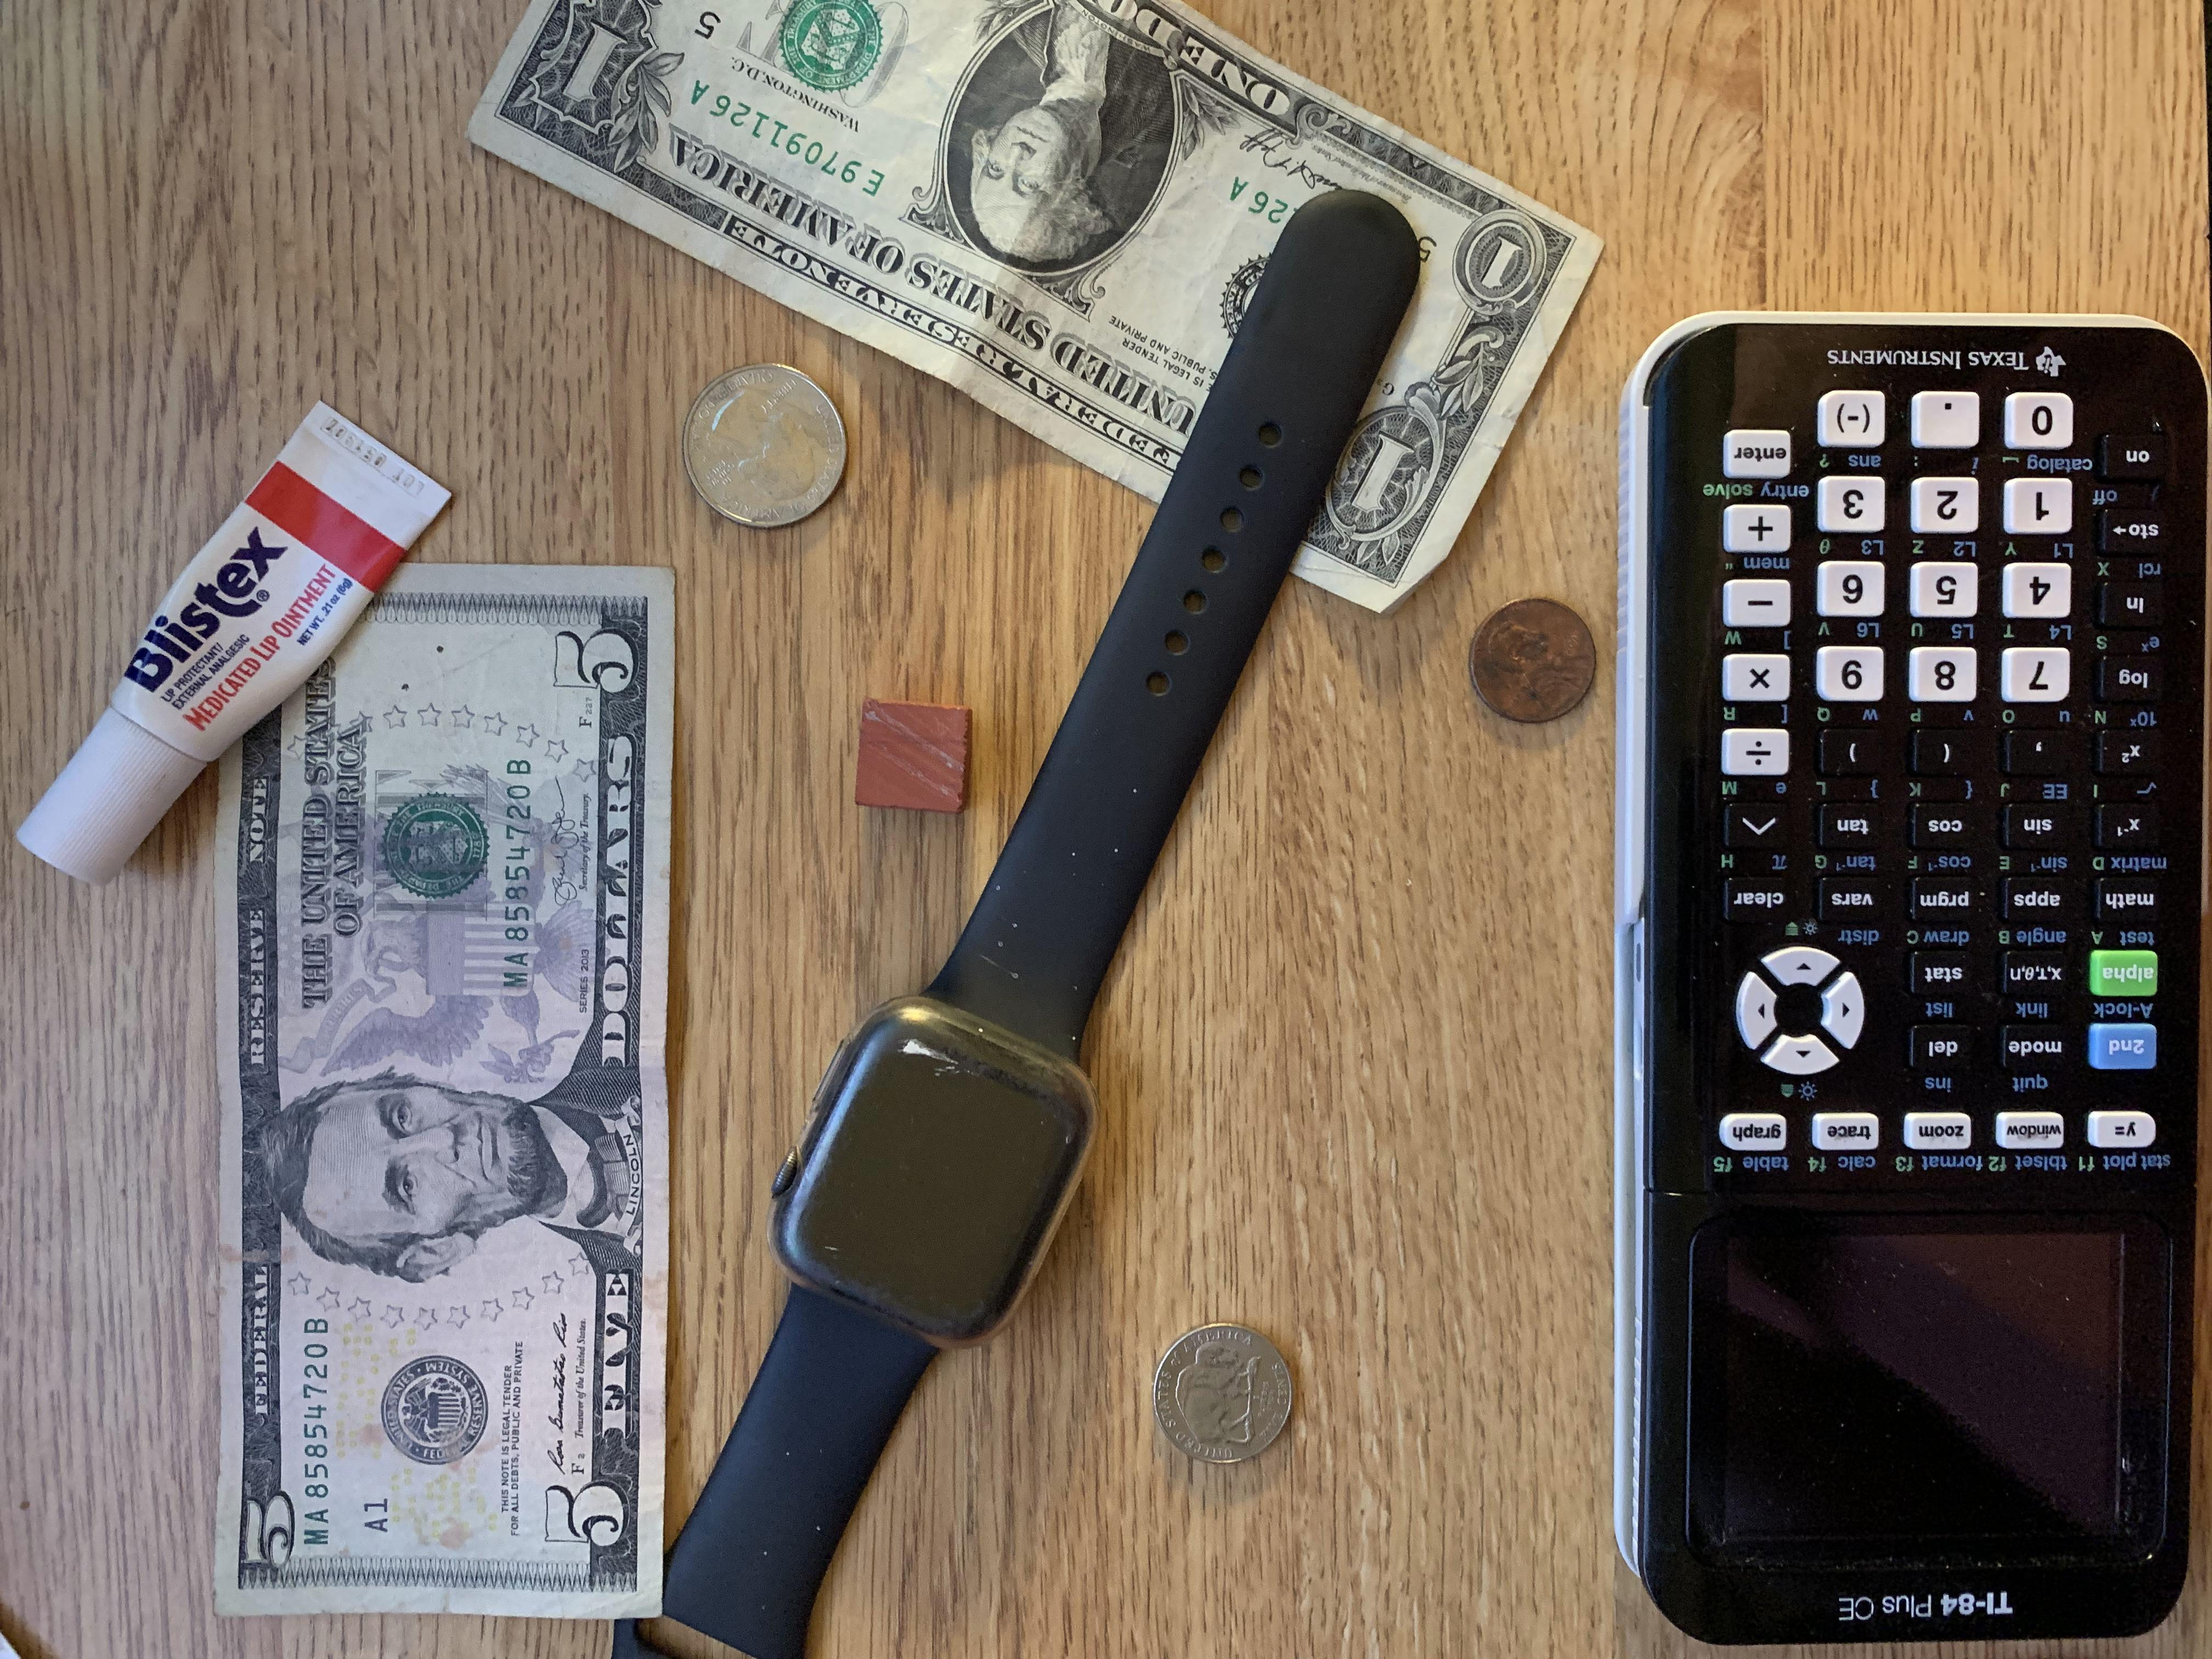FiveBill: (207, 561, 672, 1628)
Nickel: (1146, 1321, 1303, 1469)
OneBill: (463, 2, 1606, 612)
Penny: (1467, 594, 1604, 725)
Quarter: (679, 362, 852, 533)
